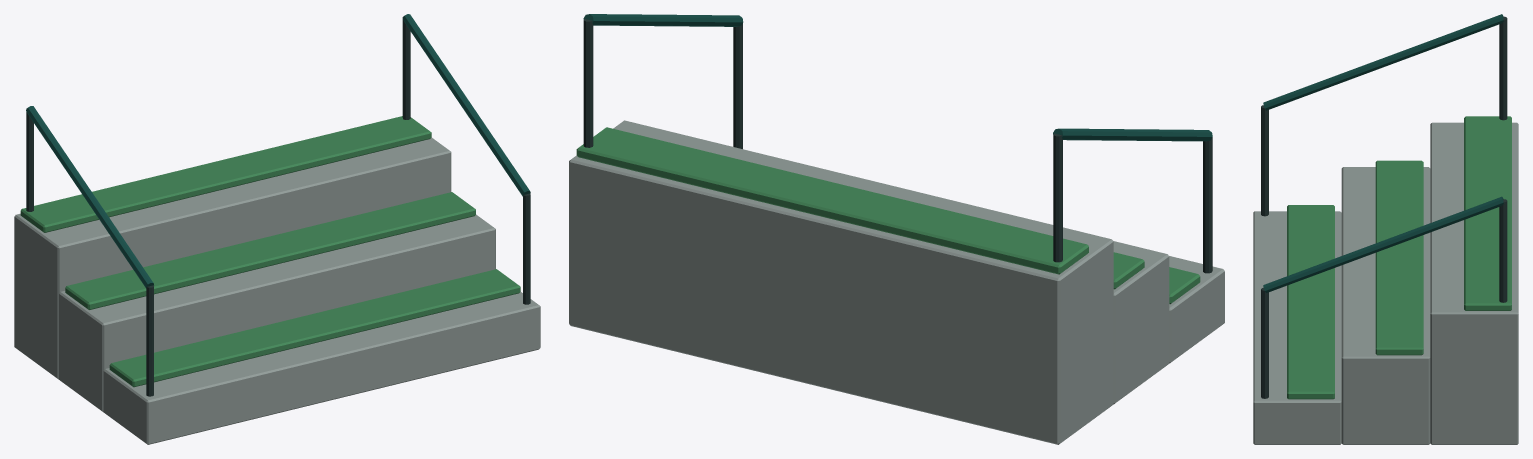
Rendered from bleachers.glb.
The picture shows the model from 3 angles, left to right: view 1: azimuth 30°, elevation 25°; view 2: azimuth 150°, elevation 25°; view 3: azimuth 270°, elevation 25°; orthographic projection. The views are drawn at different scales.
Visible parts, largest first — view 1: Degrau de concreto.002, Degrau de concreto.001, Degrau de concreto, Assento corrido, Assento corrido.001, Assento corrido.002, Corrimão, Corrimão.001, Montante do guarda-corpo, Montante do guarda-corpo.002, Montante do guarda-corpo.003, Montante do guarda-corpo.001; view 2: Degrau de concreto.002, Assento corrido.002, Degrau de concreto.001, Degrau de concreto, Corrimão, Corrimão.001, Montante do guarda-corpo.003, Montante do guarda-corpo, Montante do guarda-corpo.001, Montante do guarda-corpo.002, Assento corrido.001, Assento corrido; view 3: Degrau de concreto.002, Degrau de concreto.001, Degrau de concreto, Assento corrido.001, Assento corrido, Assento corrido.002, Corrimão, Corrimão.001, Montante do guarda-corpo.001, Montante do guarda-corpo.003, Montante do guarda-corpo.002, Montante do guarda-corpo.
Part boxes in pixels (x1,y1,x2,y2): Degrau de concreto.002: (14,137,451,379); Degrau de concreto.001: (59,214,495,412); Degrau de concreto: (103,292,540,444); Assento corrido: (109,269,520,387); Assento corrido.001: (65,192,475,309); Assento corrido.002: (20,116,431,232); Corrimão: (26,106,153,288); Corrimão.001: (402,14,530,196); Montante do guarda-corpo: (146,285,153,396); Montante do guarda-corpo.002: (523,193,530,304); Montante do guarda-corpo.003: (402,16,410,119); Montante do guarda-corpo.001: (26,108,33,211); Degrau de concreto.002: (569,120,1113,444); Assento corrido.002: (576,127,1088,274); Degrau de concreto.001: (1113,241,1169,403); Degrau de concreto: (1169,256,1224,363); Corrimão: (1053,128,1212,141); Corrimão.001: (583,14,743,26); Montante do guarda-corpo.003: (583,19,593,147); Montante do guarda-corpo: (1203,137,1212,273); Montante do guarda-corpo.001: (1053,133,1062,262); Montante do guarda-corpo.002: (733,23,742,148); Assento corrido.001: (1113,252,1144,289); Assento corrido: (1169,267,1200,304); Degrau de concreto.002: (1430,122,1518,444); Degrau de concreto.001: (1341,167,1430,444); Degrau de concreto: (1253,211,1341,444); Assento corrido.001: (1375,160,1423,355); Assento corrido: (1287,205,1334,399); Assento corrido.002: (1464,116,1511,310); Corrimão: (1263,14,1504,110); Corrimão.001: (1263,196,1503,292); Montante do guarda-corpo.001: (1499,16,1507,120); Montante do guarda-corpo.003: (1499,199,1507,302); Montante do guarda-corpo.002: (1261,287,1268,398); Montante do guarda-corpo: (1261,105,1268,216).
Size of the model in its own units: 2.5 by 1.49 by 1.47.
